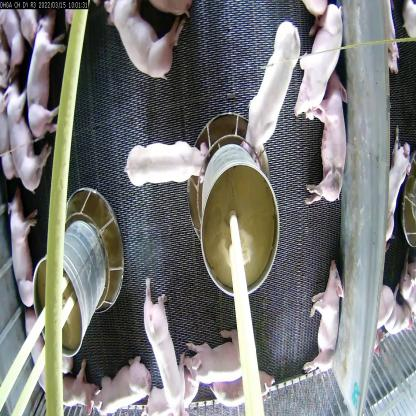Pig: (242, 20, 301, 167), (104, 0, 186, 91), (139, 280, 194, 411), (308, 72, 354, 215), (0, 78, 50, 202), (296, 0, 338, 121), (3, 181, 38, 312), (125, 140, 208, 195), (89, 350, 158, 415), (26, 21, 64, 138), (184, 324, 257, 383), (307, 264, 343, 373), (196, 361, 277, 408)
